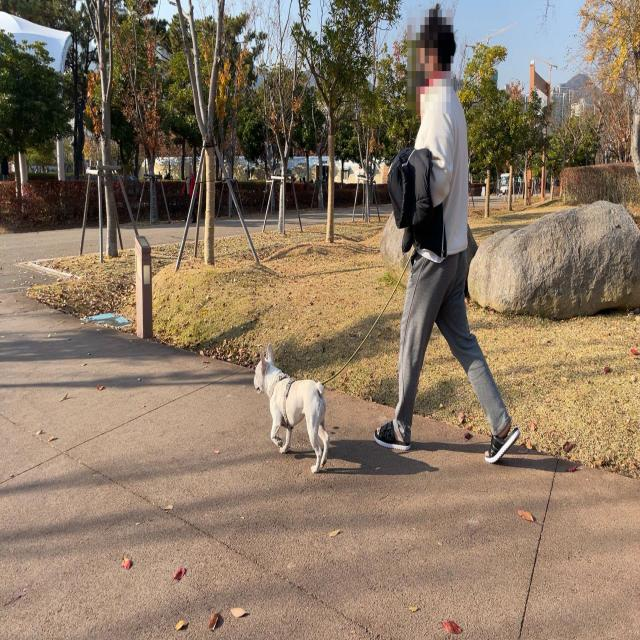Leashed_Dog: (252, 220, 425, 477)
